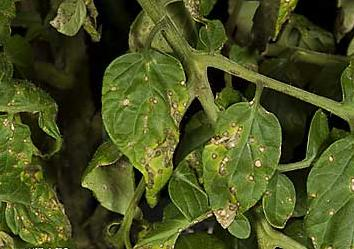Tomato Septoria leaf spot: (94, 49, 185, 213), (195, 102, 288, 229), (301, 123, 354, 249), (120, 213, 195, 249), (0, 110, 34, 187), (43, 1, 96, 42)
